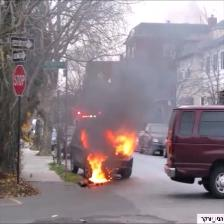fire: (82, 131, 133, 182)
smoke: (88, 53, 165, 130)
